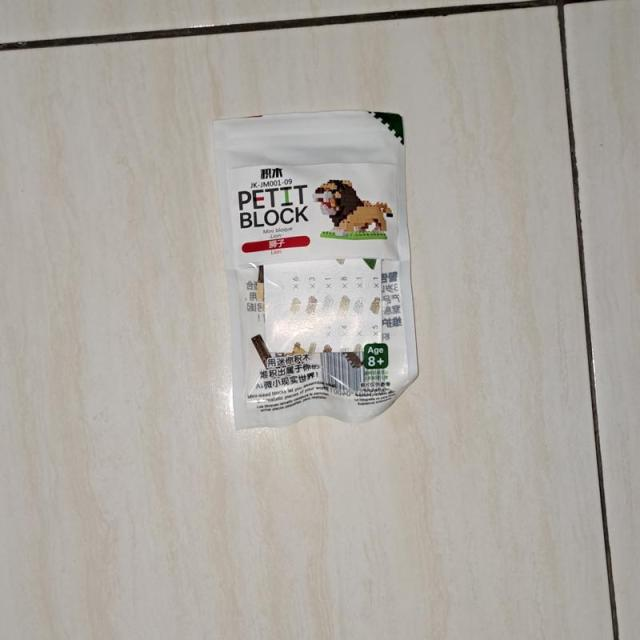Anorganik: (201, 102, 424, 438)
